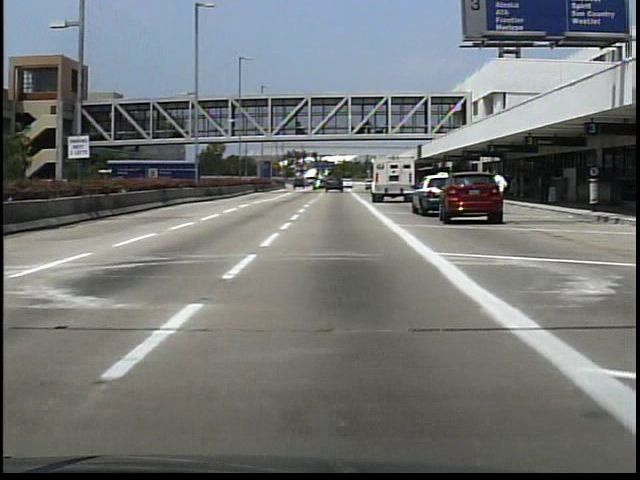person: (489, 170, 509, 226)
